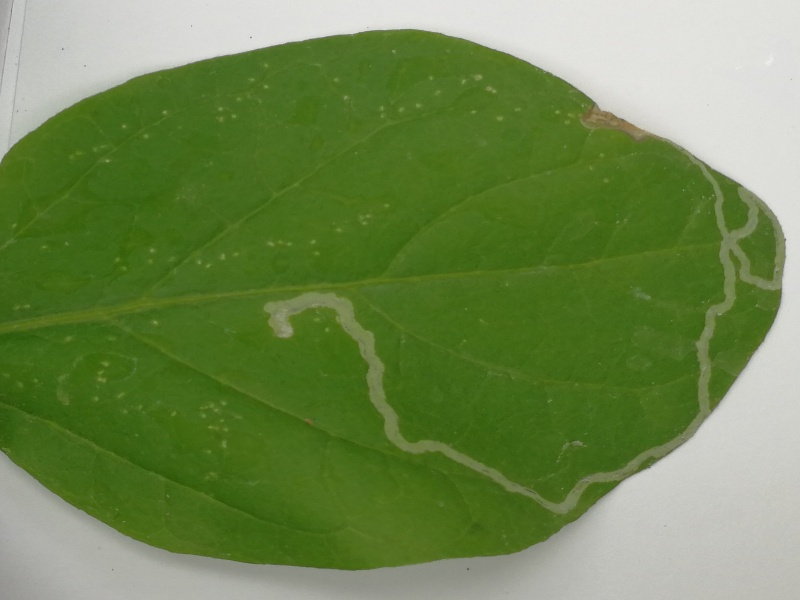leafminer: (262, 104, 788, 515)
